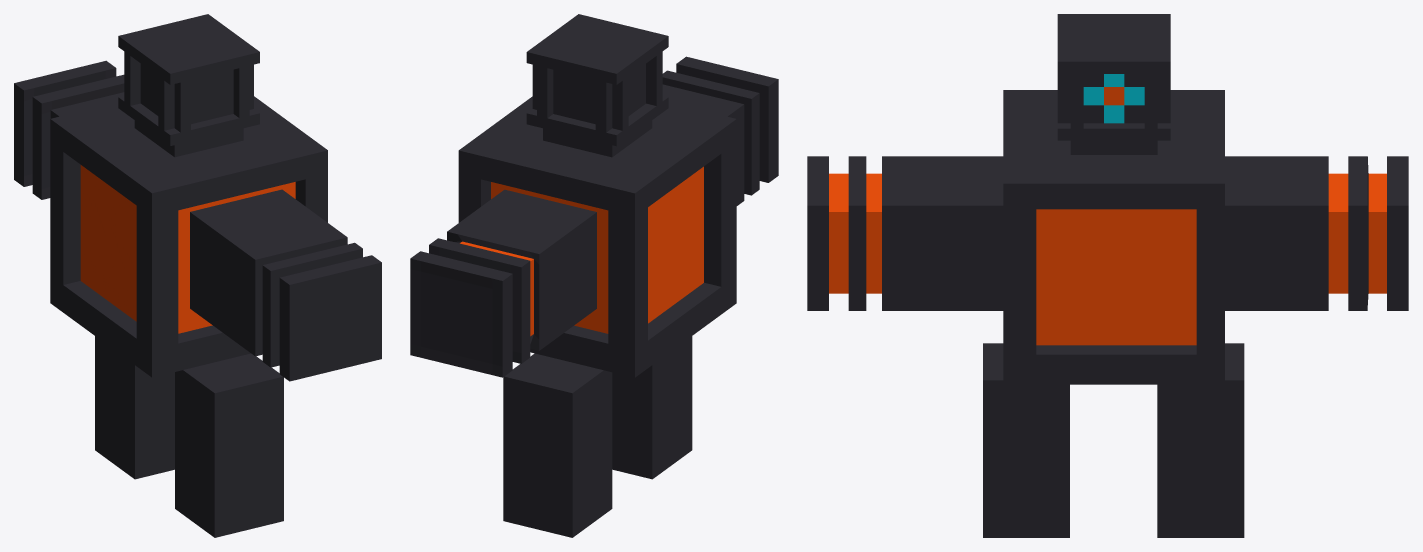
Rendered from Golem.fbx.
3 views of the same model, side by side, from view 1: azimuth 30°, elevation 25°; view 2: azimuth 150°, elevation 25°; view 3: azimuth 270°, elevation 25° (orthographic). The views are drawn at different scales.
Parts seen in each view (by area): view 1: Golem; view 2: Golem; view 3: Golem.
Part boxes in pixels (x1,y1,x2,y2): Golem: [14, 14, 381, 537]; Golem: [410, 14, 778, 537]; Golem: [807, 14, 1408, 537].
Size of the model in its own units: 510 by 1221 by 1382.
